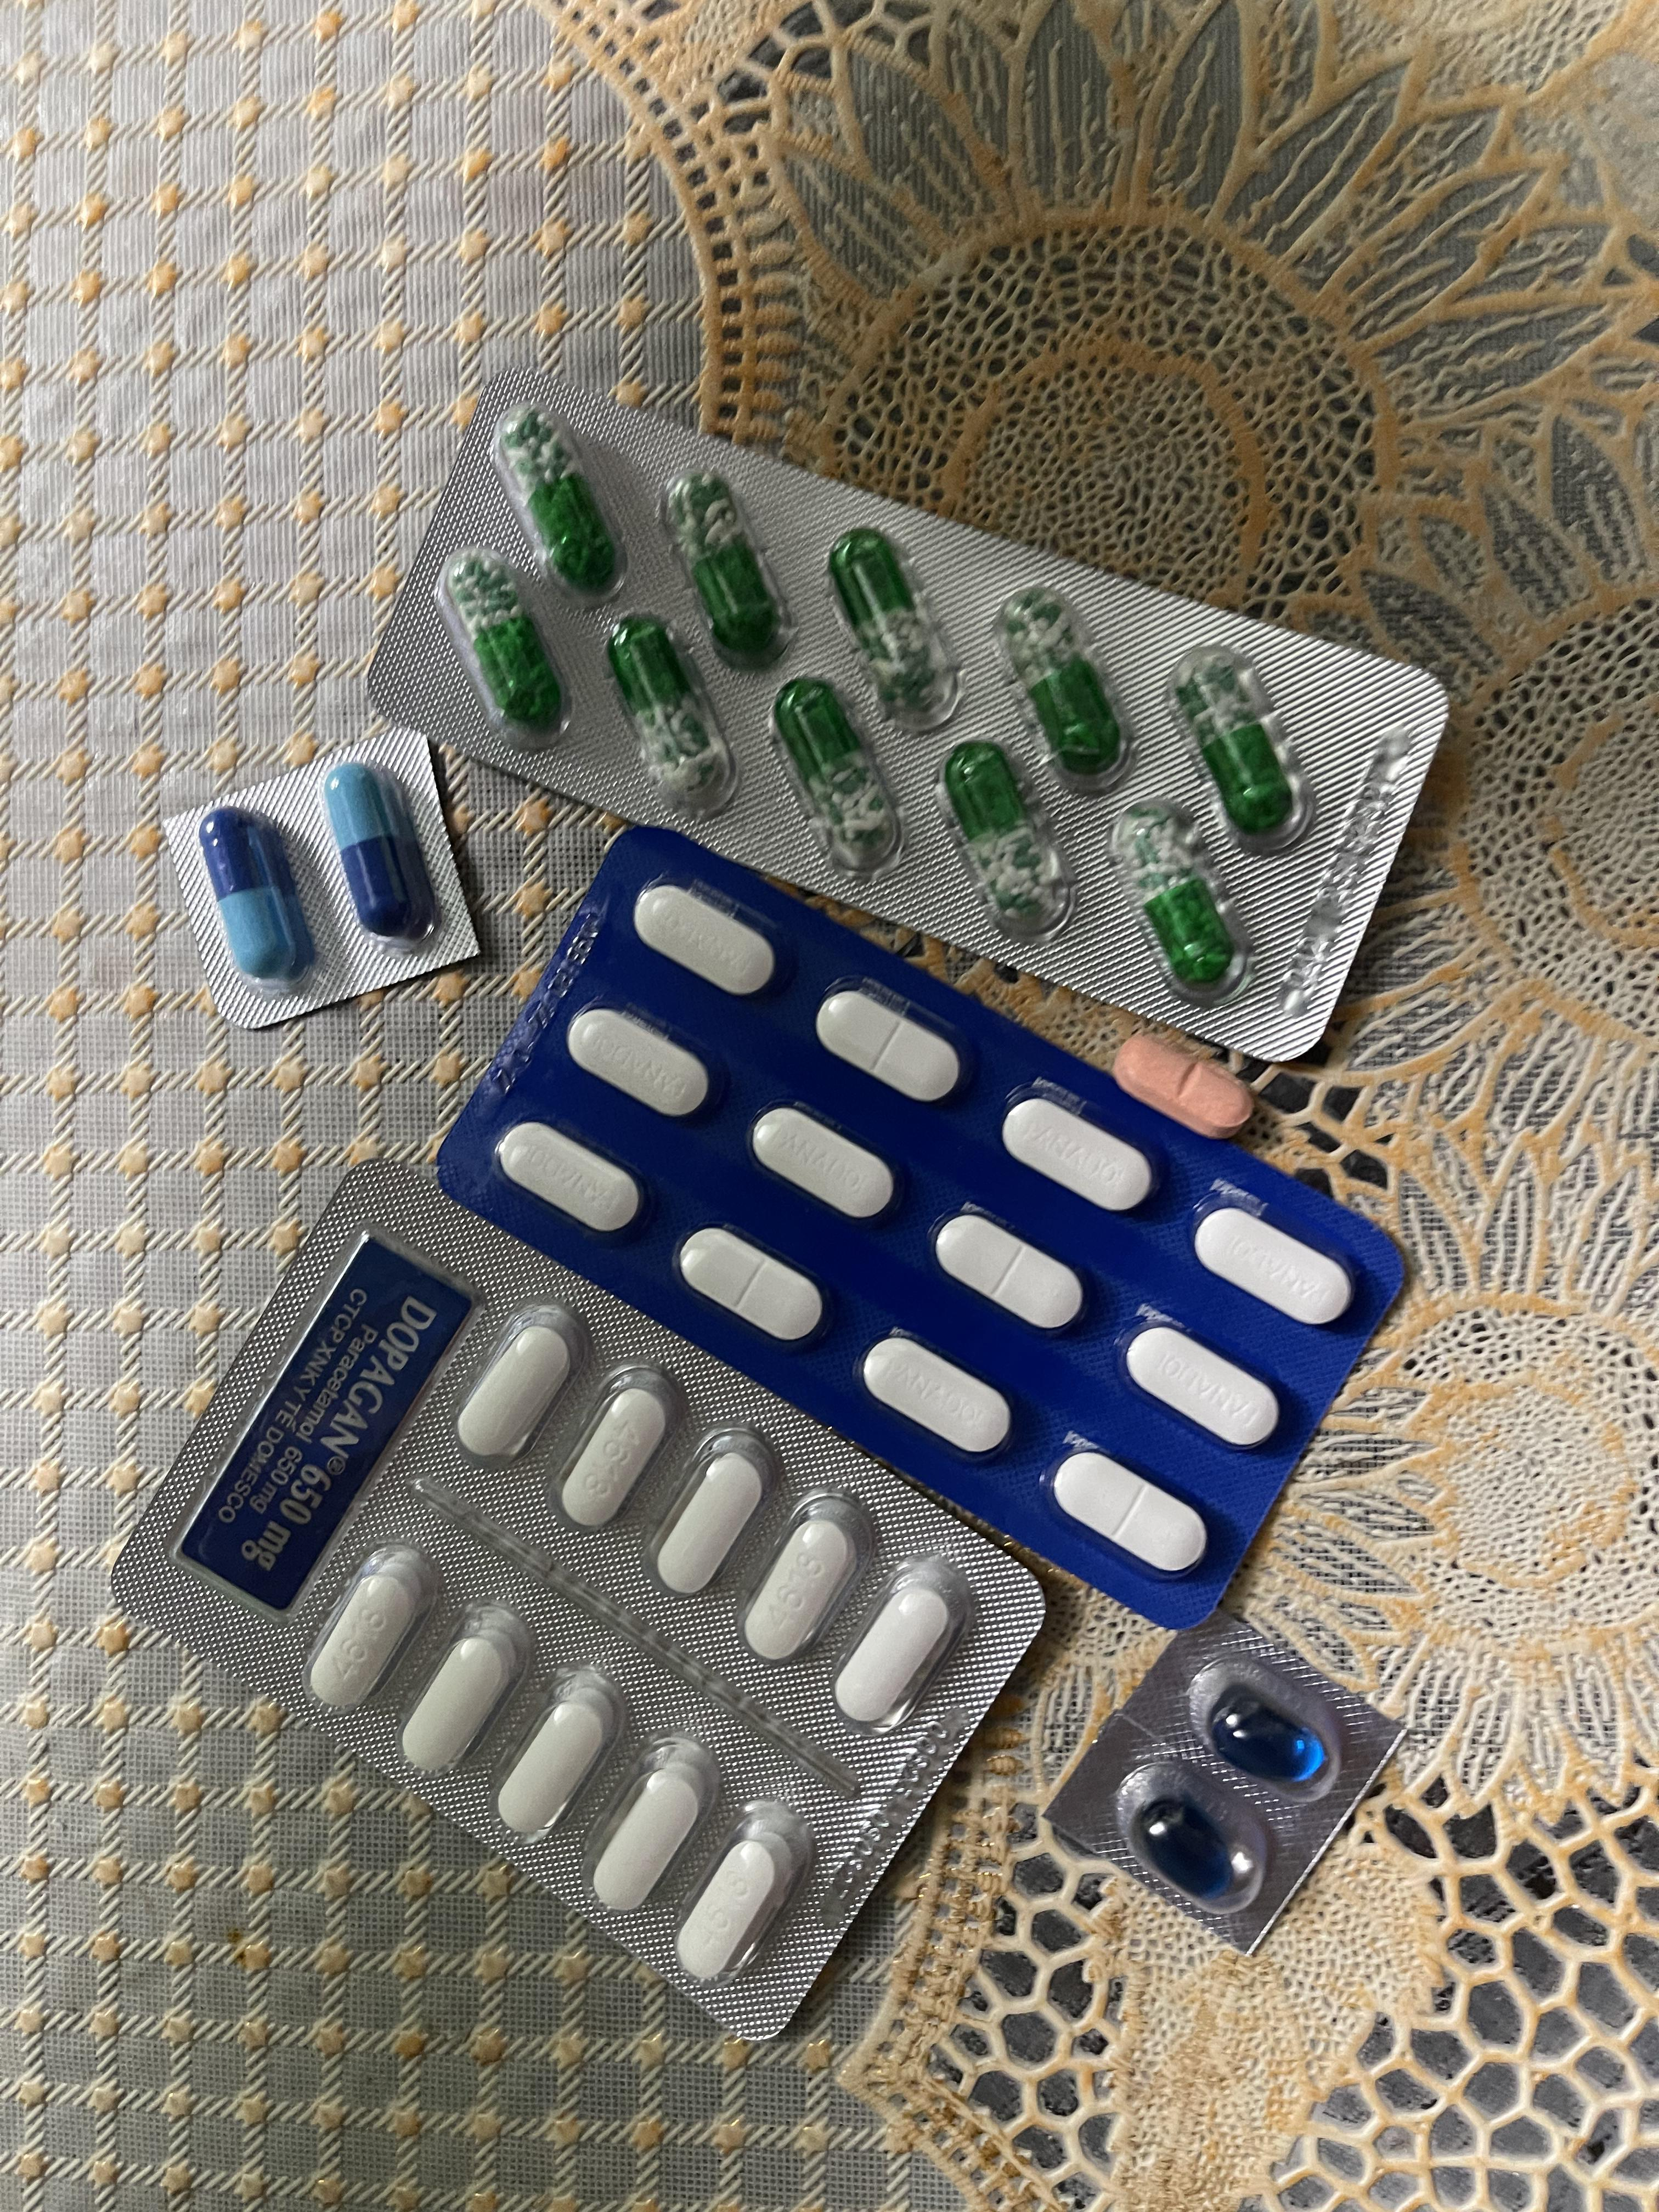Lincomyxin_500mg: (1208, 1691, 1328, 1787), (1136, 1796, 1239, 1904)
Loratadine_10mg: (1114, 1031, 1249, 1127)
Paracetamol_350mg: (1192, 1205, 1356, 1329), (1124, 1325, 1279, 1453), (932, 1209, 1084, 1332), (1000, 1094, 1154, 1212), (1053, 1447, 1201, 1569), (816, 984, 967, 1103), (751, 1106, 899, 1223), (566, 1005, 716, 1120), (863, 1336, 1006, 1456), (497, 1120, 643, 1237), (681, 1230, 824, 1348), (634, 878, 779, 988)
Paracetamol_500mg: (828, 1550, 969, 1728), (584, 1737, 721, 1918), (544, 1359, 687, 1531), (643, 1426, 784, 1599), (399, 1604, 535, 1778), (493, 1669, 627, 1841), (301, 1543, 437, 1707), (455, 1308, 587, 1460), (678, 1836, 791, 1980), (746, 1515, 856, 1662)
Paracetamol_650mg: (997, 585, 1131, 791), (824, 526, 958, 730), (493, 402, 627, 604), (938, 740, 1072, 941), (434, 550, 568, 747), (603, 615, 730, 817), (770, 679, 901, 874), (667, 475, 789, 669), (1115, 805, 1237, 984), (1180, 657, 1291, 827)
pill: (322, 758, 439, 944), (199, 806, 317, 989)
